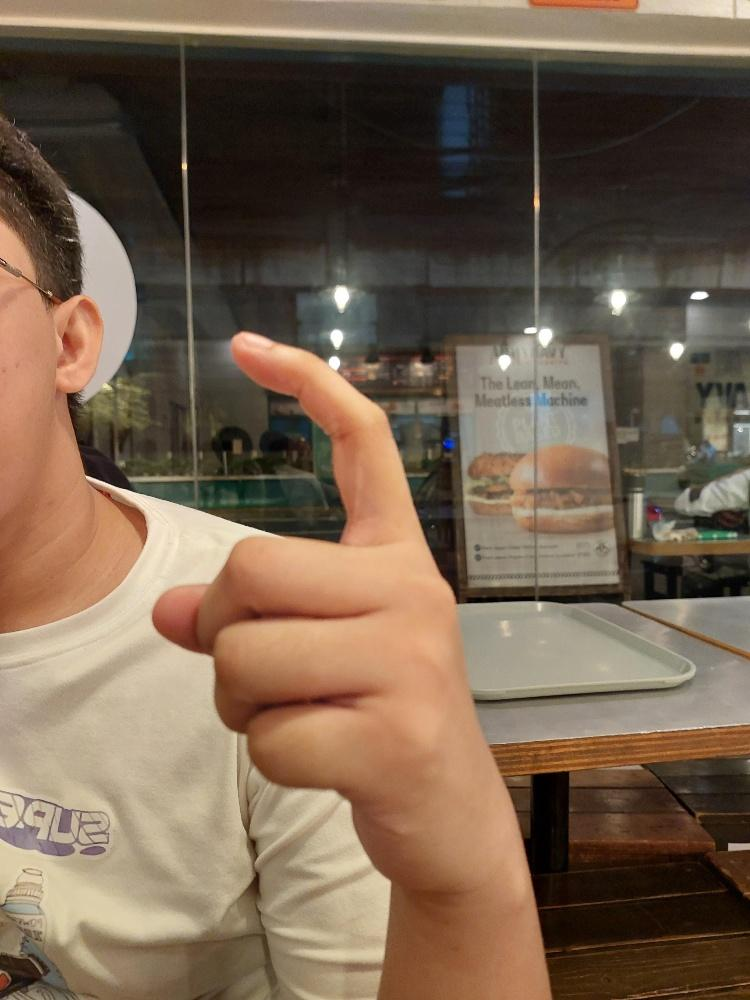x: (150, 327, 506, 896)
